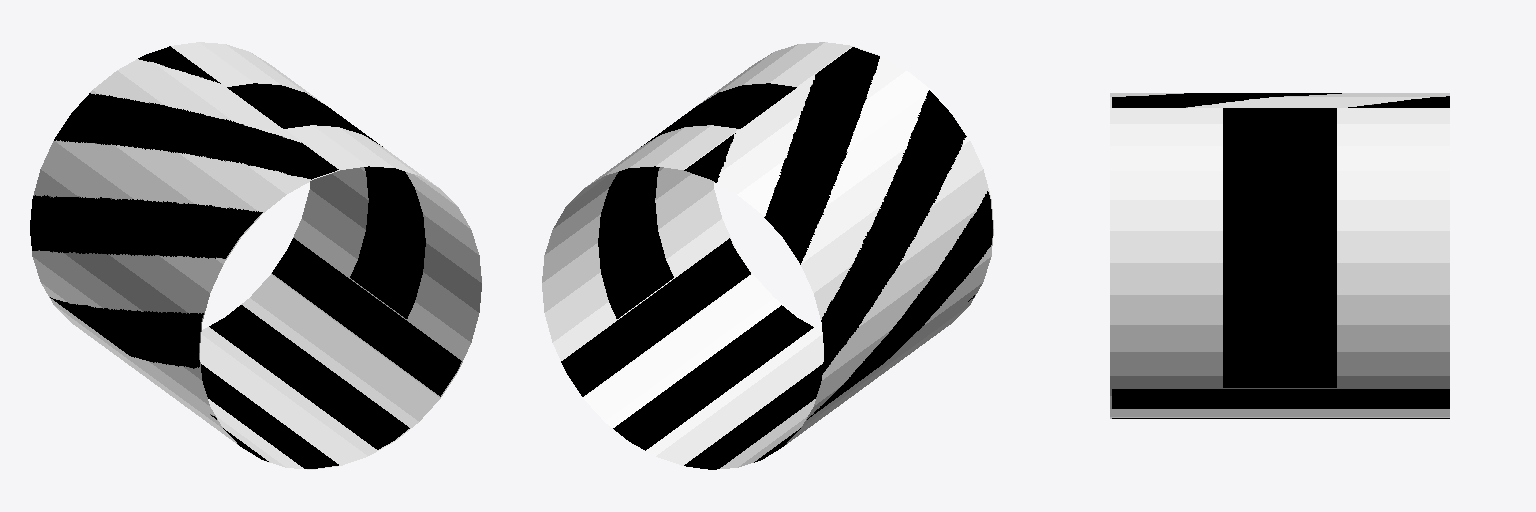
3 renders of one model, left to right at view 1: azimuth 30°, elevation 25°; view 2: azimuth 150°, elevation 25°; view 3: azimuth 270°, elevation 25°, orthographic.
Size of the model in its own units: 0.246 by 0.246 by 0.256.
1 materials, 1 textured.